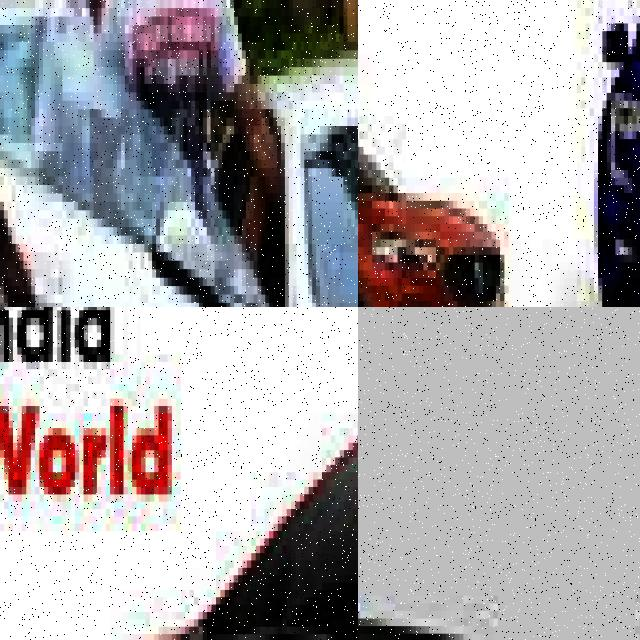bike: (358, 435, 640, 640)
car: (0, 384, 358, 640), (358, 62, 510, 307), (281, 8, 358, 307), (581, 0, 640, 307)
